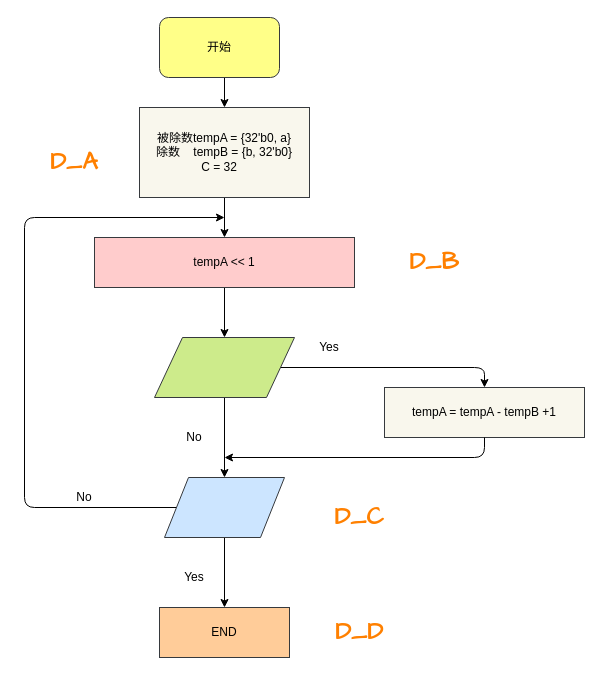
Some shapes in this 602 by 675 pixel diagram are drawn without their labels. Each missing label, with the box of its shape:
C == 0: (164, 476, 284, 538)
tempA >= tempB: (154, 336, 294, 398)
